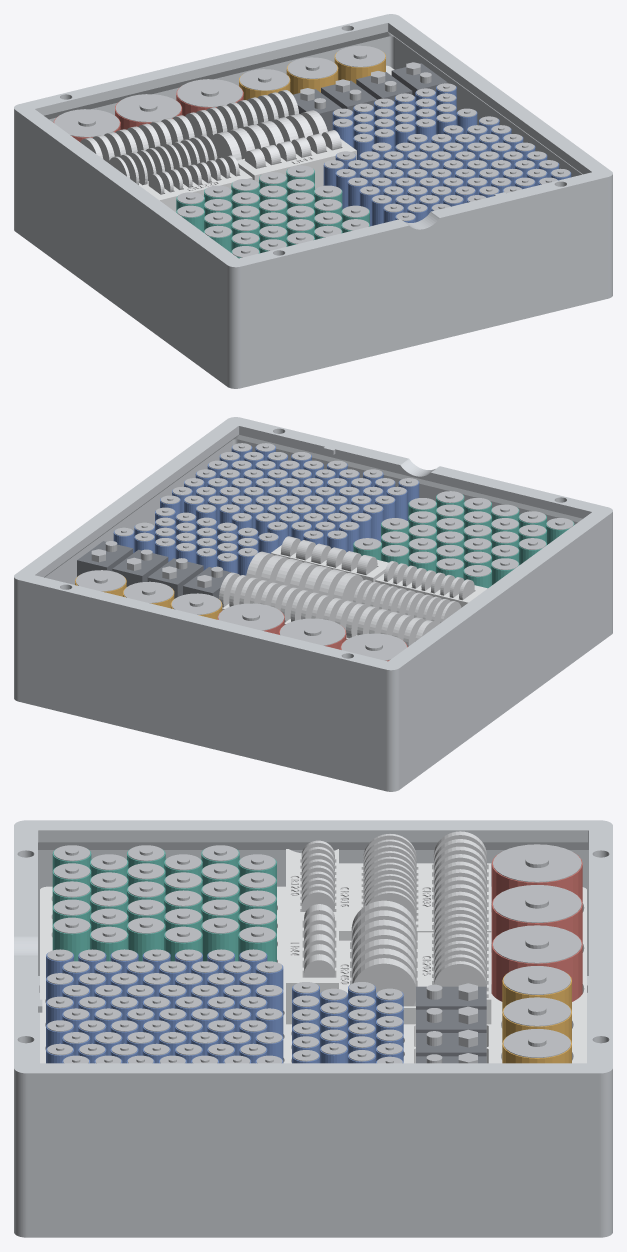
File: view_wo_lid.glb
3 renders of one model, top to bottom at view 1: azimuth 30°, elevation 25°; view 2: azimuth 150°, elevation 25°; view 3: azimuth 270°, elevation 25°, orthographic. The views are drawn at different scales.
Visible parts, largest first — view 1: doboz, elem_polusok, gombelemek, elem_AAA, elem_AA, elem_9V, betet, elem_LR14_C, elem_LR20_D; view 2: doboz, elem_polusok, gombelemek, elem_AAA, elem_AA, elem_9V, betet; view 3: doboz, elem_polusok, gombelemek, elem_AAA, betet, elem_AA, elem_LR20_D, elem_9V, elem_LR14_C.
Part boxes in pixels (box(x1,y1,x2,y2)): doboz: box(14, 14, 612, 388); elem_polusok: box(54, 45, 570, 257); gombelemek: box(80, 90, 341, 194); elem_AAA: box(323, 86, 571, 226); elem_AA: box(176, 169, 369, 258); elem_9V: box(293, 63, 447, 131); betet: box(139, 65, 394, 212); elem_LR14_C: box(239, 51, 385, 100); elem_LR20_D: box(53, 86, 243, 141); doboz: box(14, 417, 612, 791); elem_polusok: box(76, 443, 573, 660); gombelemek: box(219, 536, 474, 646); elem_AAA: box(113, 445, 419, 575); elem_AA: box(353, 494, 574, 588); elem_9V: box(77, 541, 231, 598); betet: box(222, 521, 487, 639); doboz: box(14, 820, 612, 1237); elem_polusok: box(47, 844, 581, 1063); gombelemek: box(301, 831, 486, 1006); elem_AAA: box(46, 952, 403, 1063); betet: box(40, 849, 586, 1063); elem_AA: box(52, 849, 276, 962); elem_LR20_D: box(491, 855, 582, 1001); elem_9V: box(416, 986, 486, 1063); elem_LR14_C: box(502, 974, 571, 1063).
Bounding box in the file's own units: 225 × 69.3 × 225.
